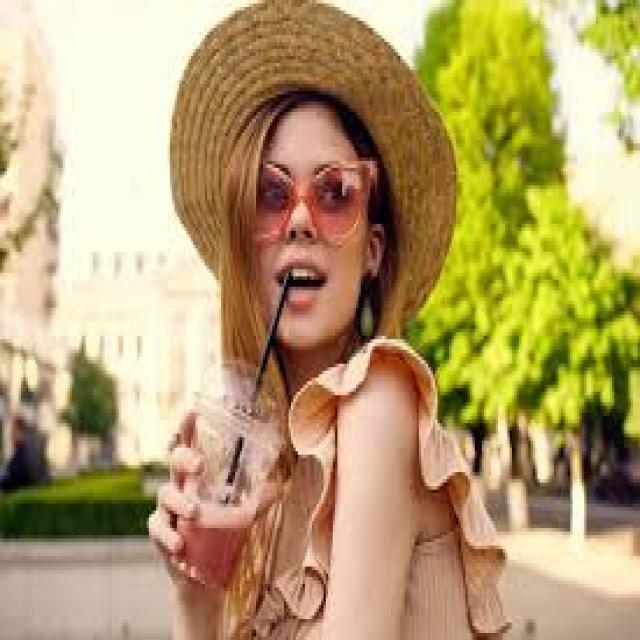Glasses: (222, 147, 390, 261)
